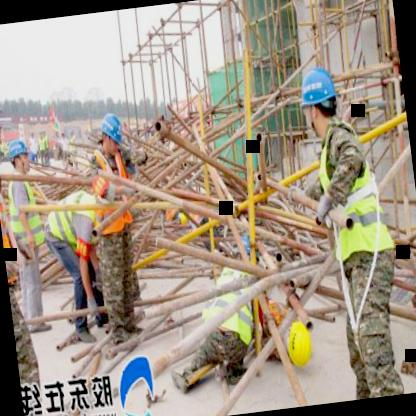helmet: (295, 60, 344, 136), (279, 314, 317, 374), (94, 106, 128, 156), (3, 136, 34, 179), (0, 68, 7, 145)
